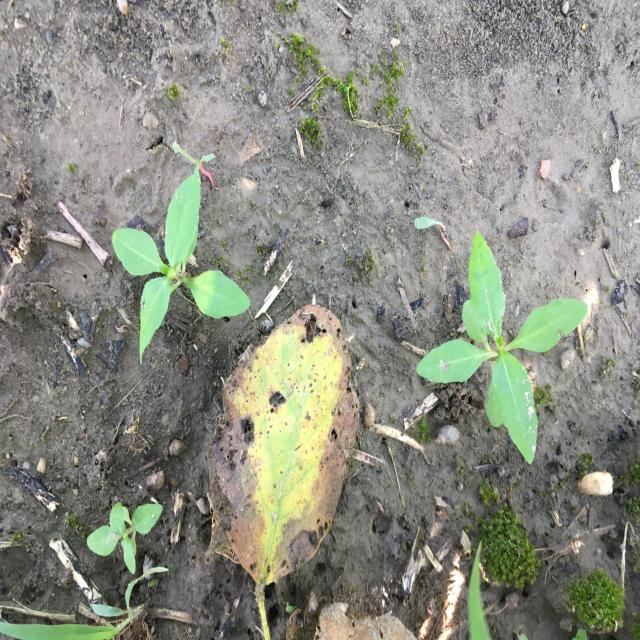Eclipta: (415, 228, 589, 466), (110, 172, 252, 368), (85, 501, 164, 576)
